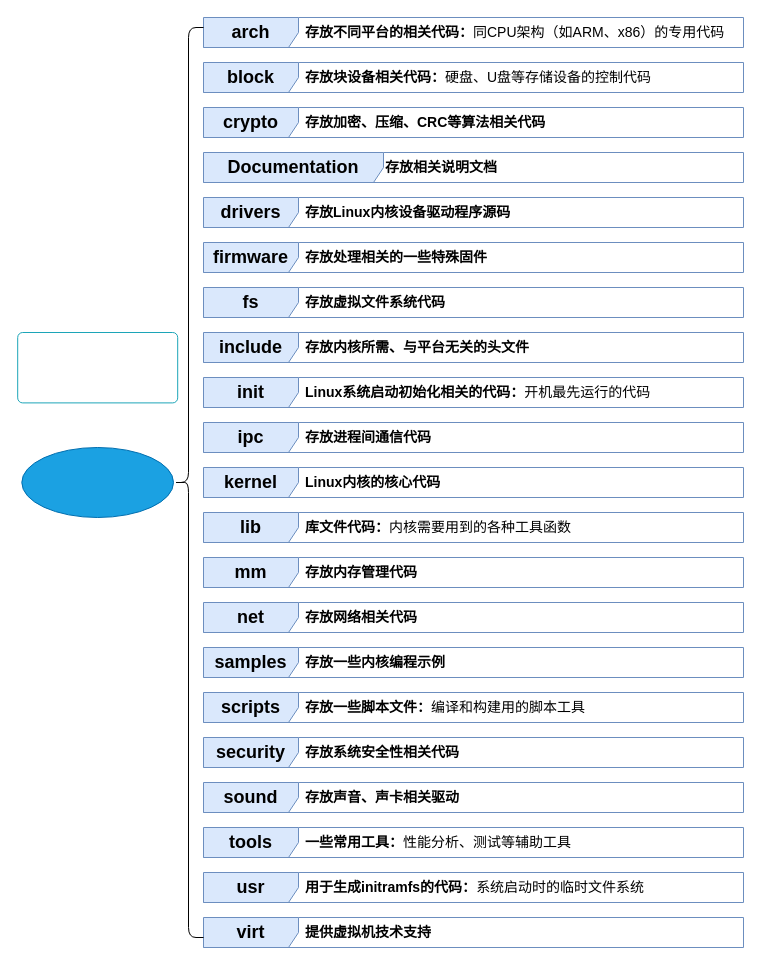
Image size: 761x965. Some labels were removed from this diagram. Here are the shapes that lost their labels. From the top down, the centre of each, then its label:
At point (97, 367): "🌻Make By Dakkk".
At point (97, 482): "内核源码 目录结构".
